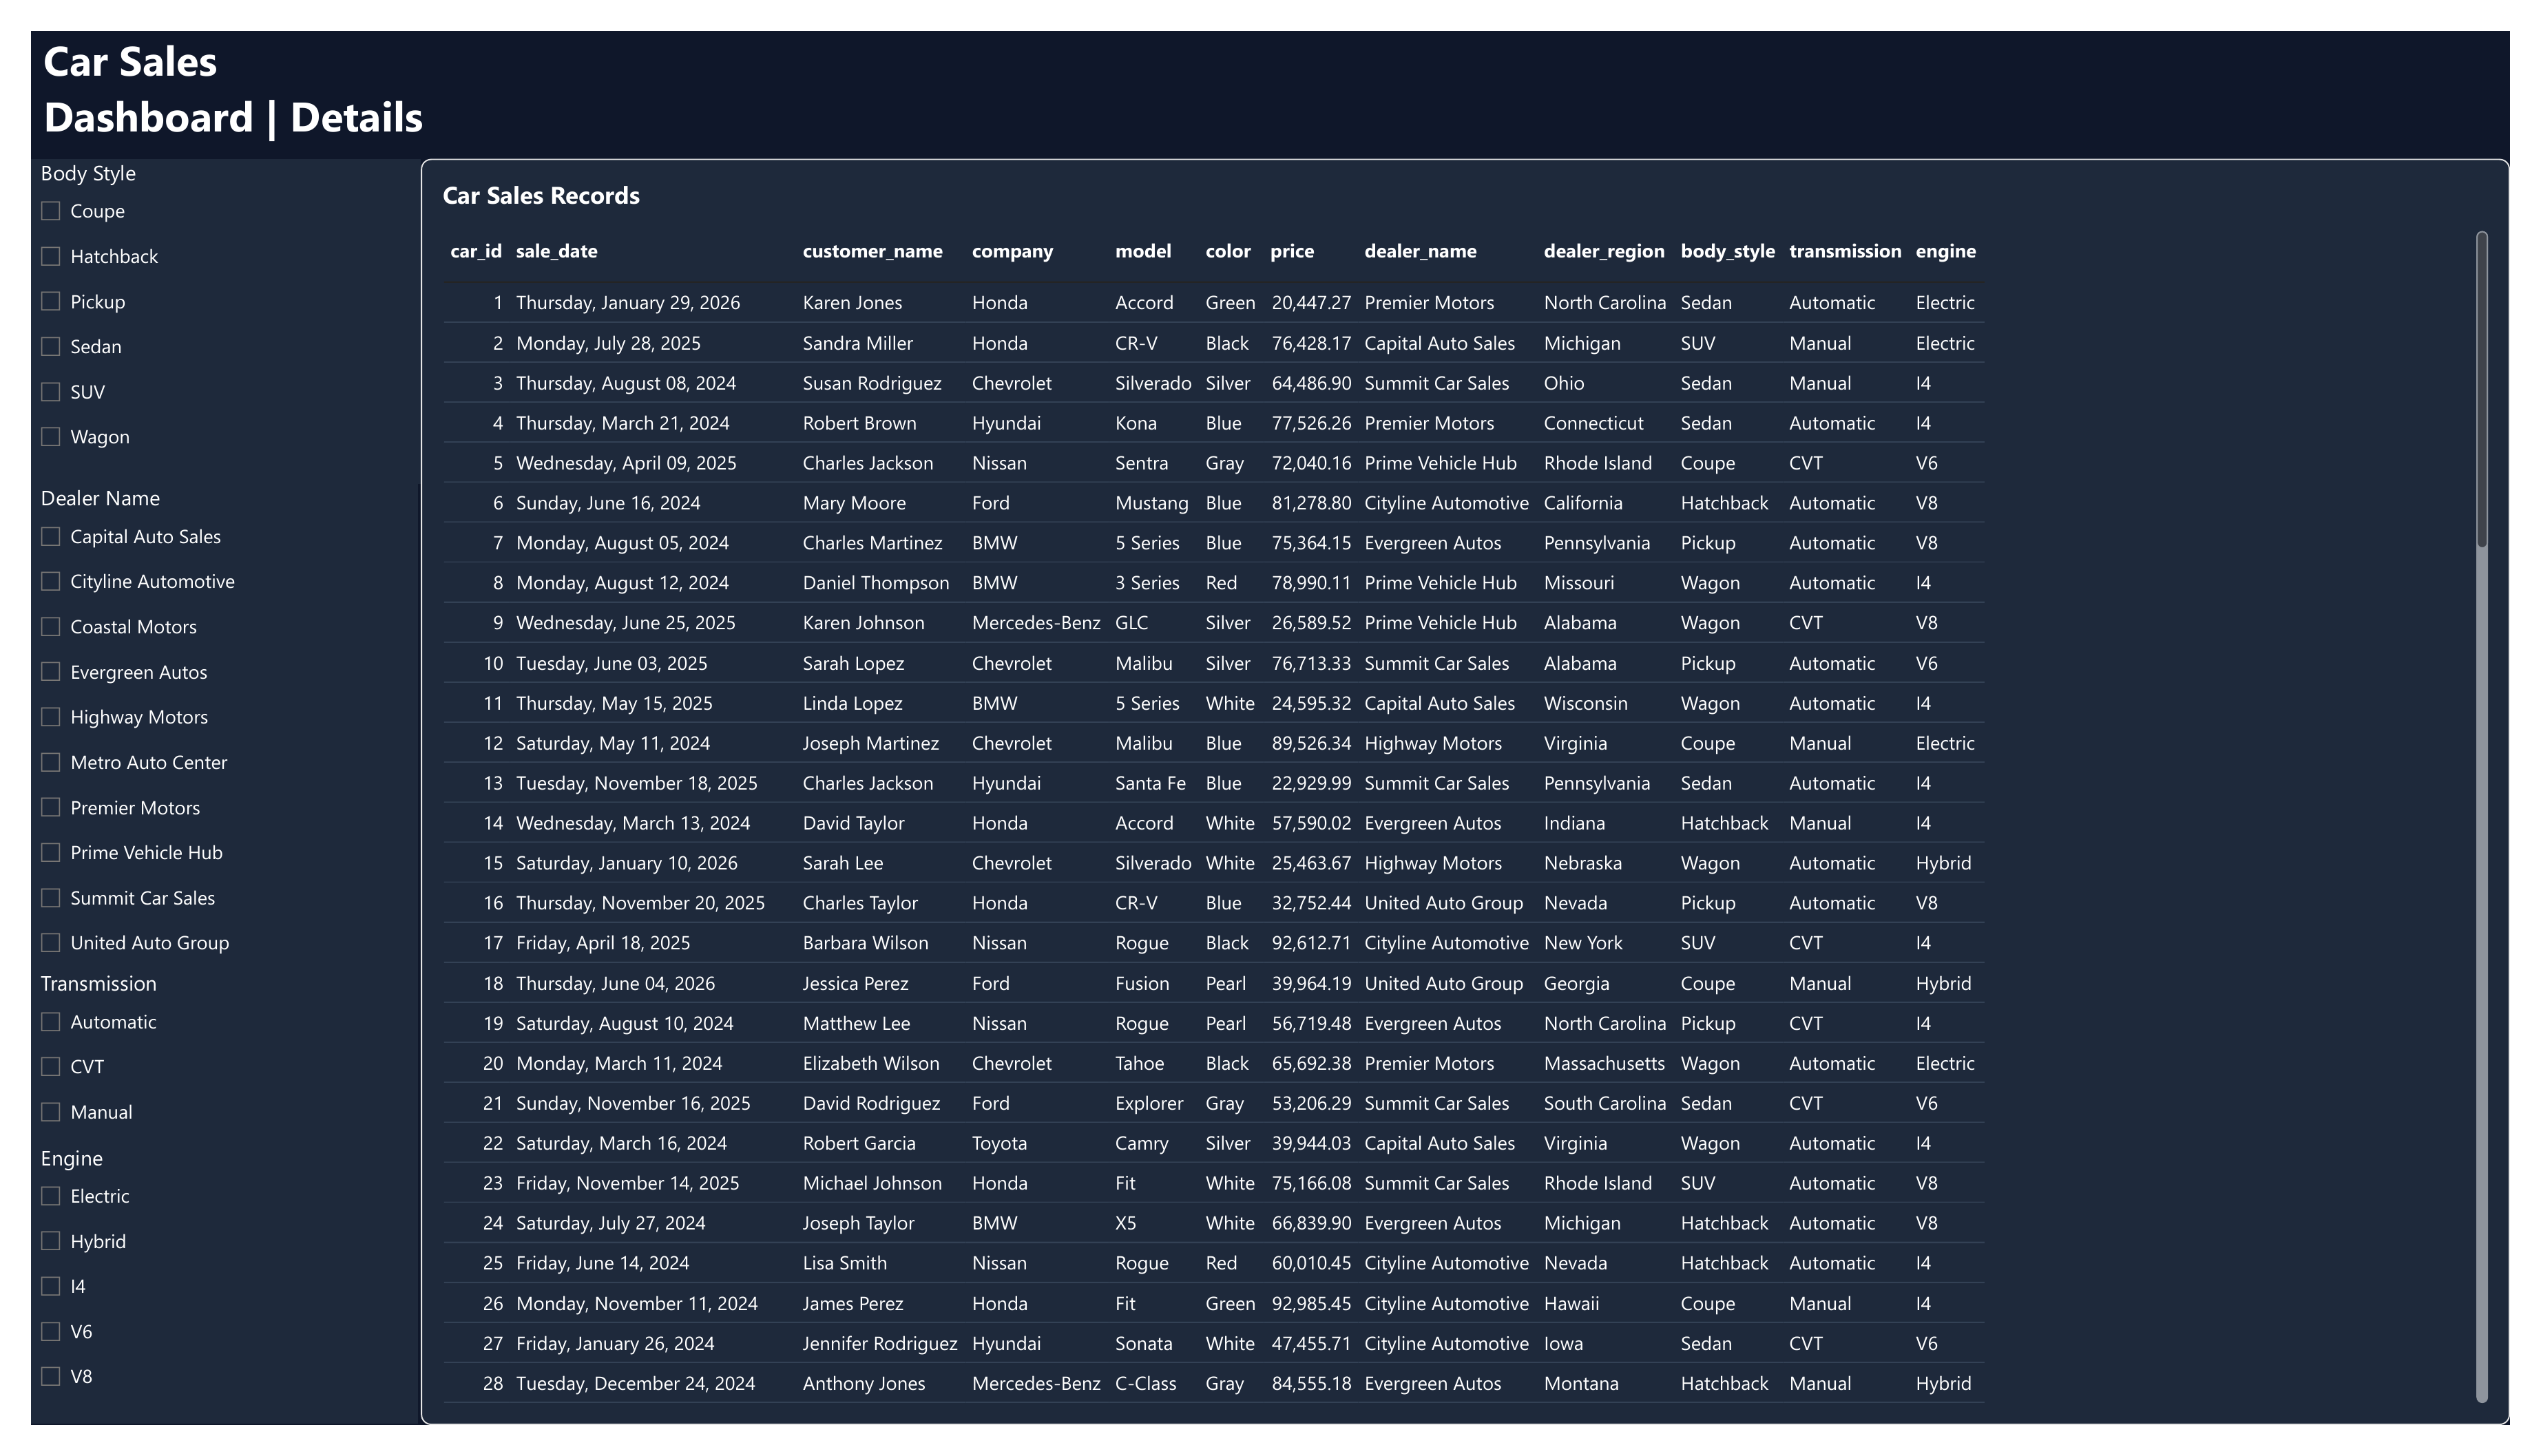

The dashboard page shown, as its layout file describes it:
{"tool":"powerbi","page":{"name":"Details","canvas":[1920,1080],"ordinal":1},"visuals":[{"type":"textbox","box":[10.5,0,303.5,99.4],"z":0},{"type":"tableEx","title":"Car Sales Records","fields":{"Values":["car_sales_5000.car_id","car_sales_5000.sale_date","car_sales_5000.customer_name","car_sales_5000.company","car_sales_5000.model","car_sales_5000.color","car_sales_5000.price","car_sales_5000.dealer_name","car_sales_5000.dealer_region","car_sales_5000.body_style","car_sales_5000.transmission","car_sales_5000.engine"]},"box":[301.7,99.4,1618.6,980.2],"z":1},{"type":"slicer","fields":{"Values":["car_sales_5000.body_style"]},"box":[0,99.4,301.7,251.2],"z":2},{"type":"slicer","fields":{"Values":["car_sales_5000.dealer_name"]},"box":[0,350.6,300,380.2],"z":3},{"type":"slicer","fields":{"Values":["car_sales_5000.transmission"]},"box":[0,727.3,300,134.3],"z":4},{"type":"slicer","fields":{"Values":["car_sales_5000.engine"]},"box":[0,862,300,217],"z":5}]}

Visuals, with their boxes in screenshot pixels (x1, y1, x2, y2), scaled from the page's 1920x1080 canvas onto the 2541x1456 screenshot:
textbox: (left=14, top=0, right=415, bottom=134)
"Car Sales Records" tableEx: (left=399, top=134, right=2540, bottom=1455)
slicer - car_sales_5000.body_style: (left=0, top=134, right=399, bottom=473)
slicer - car_sales_5000.dealer_name: (left=0, top=473, right=397, bottom=985)
slicer - car_sales_5000.transmission: (left=0, top=980, right=397, bottom=1161)
slicer - car_sales_5000.engine: (left=0, top=1162, right=397, bottom=1455)
